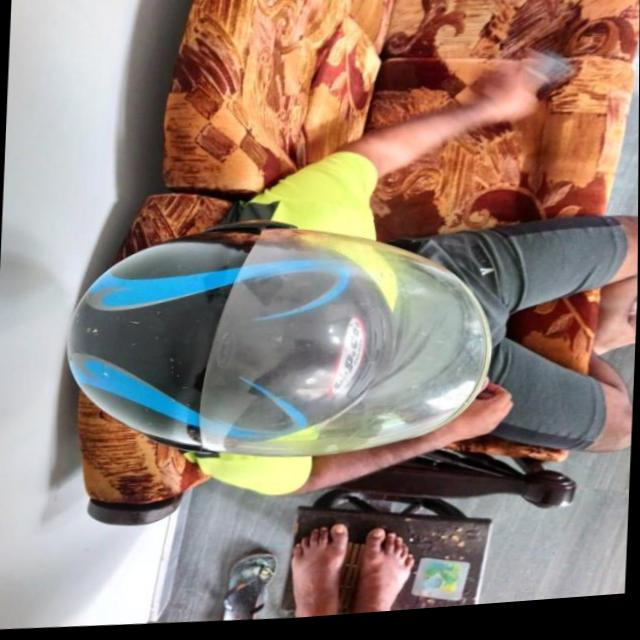helmet: (64, 206, 499, 483)
